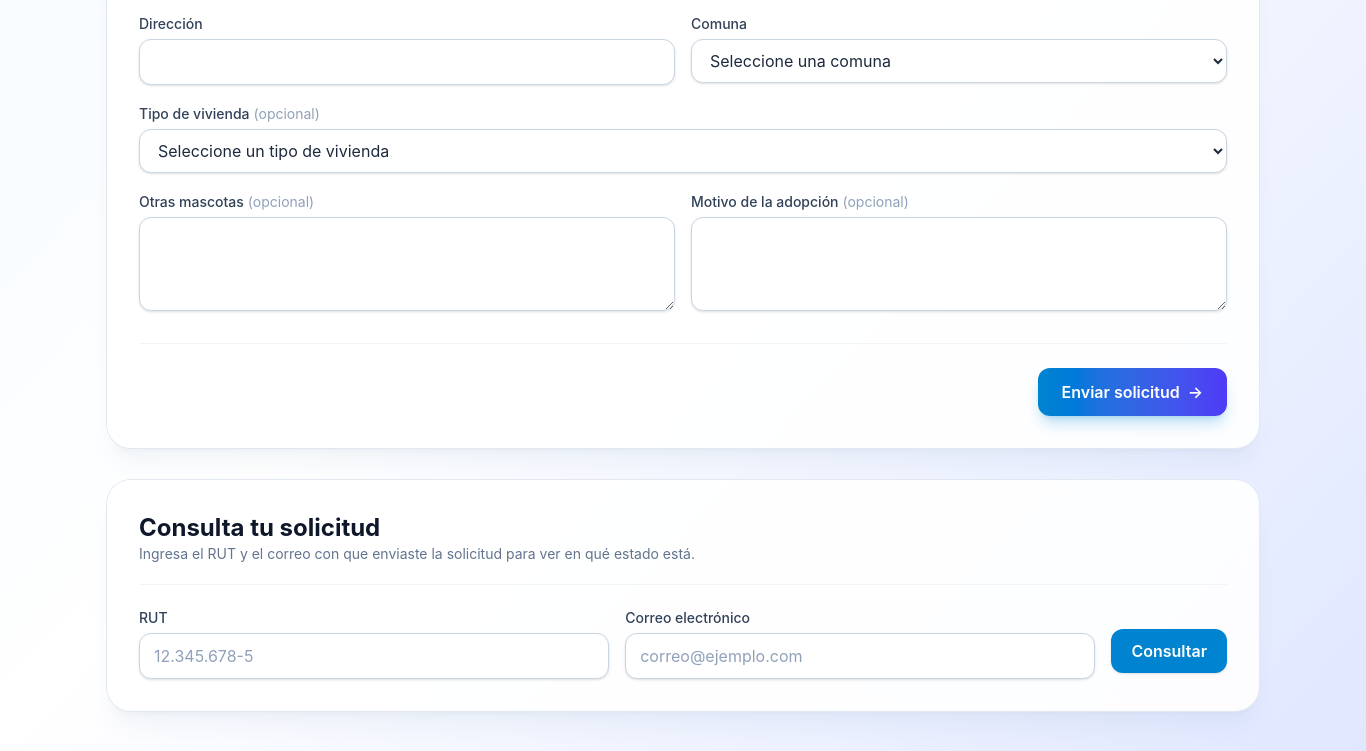
Test: Consulta del estado de la solicitud (vista del usuario) › avisa si no hay solicitudes con ese RUT y correo
The width and height of the screenshot is (1366, 751).
(page scrolled)
Type "123456785" into the field labelled "RUT" at (374, 656), box [139,633,609,679]
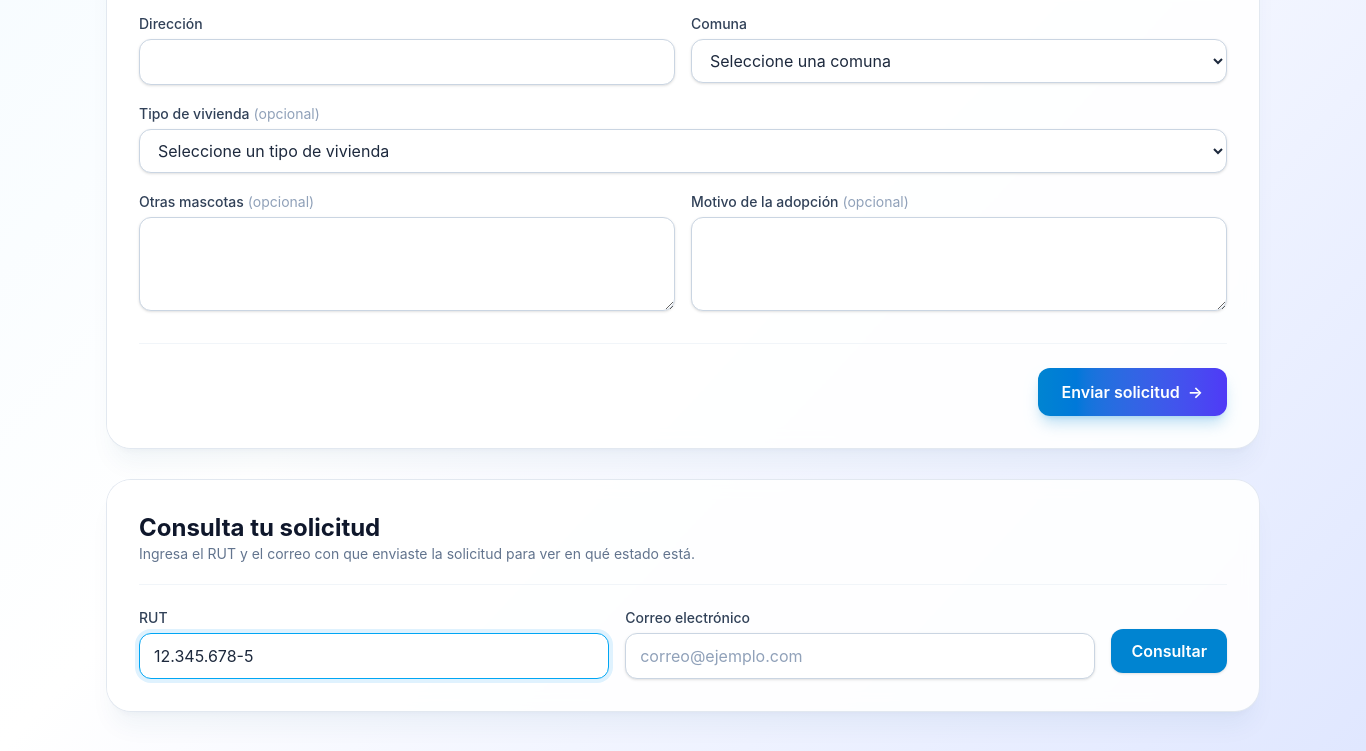
Type "ana@correo.cl" into the field labelled "Correo electrónico" at (860, 656), box [625,633,1095,679]
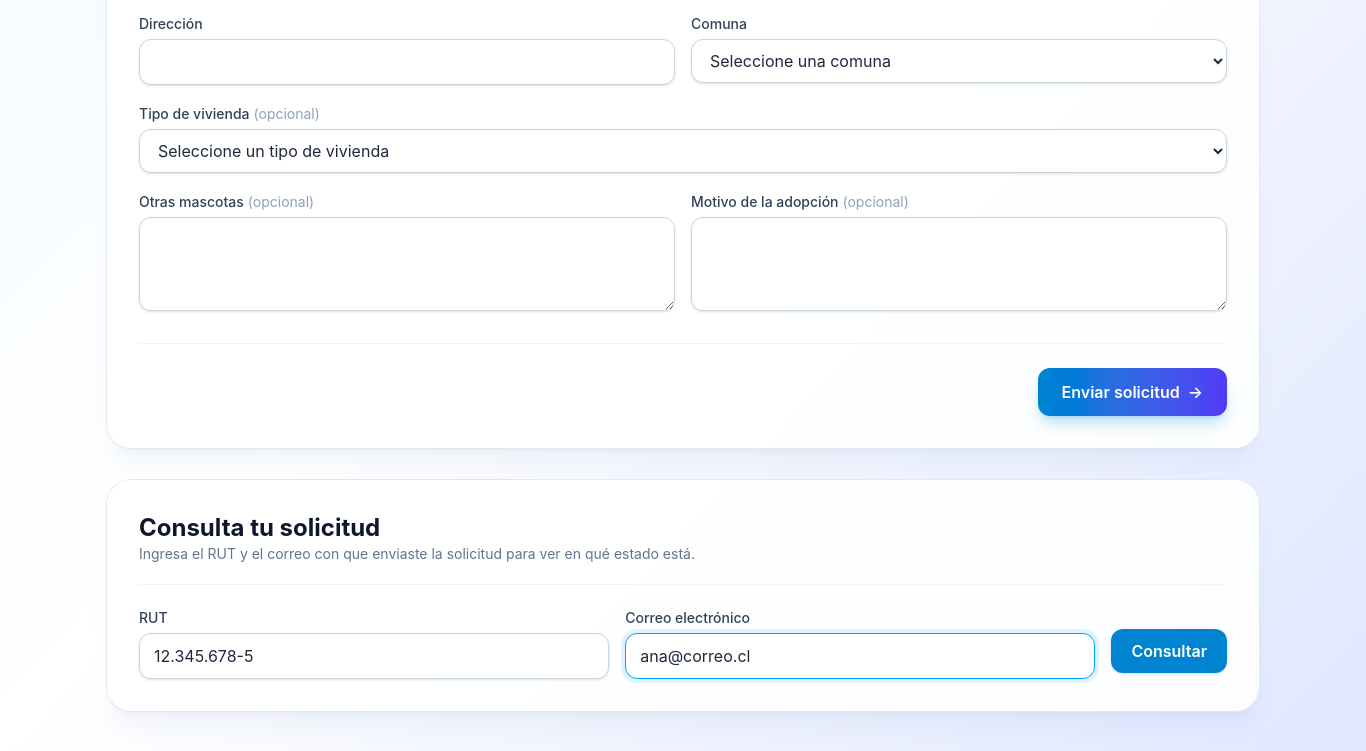
Click the button "Consultar" at (1169, 651), box [1111,629,1227,673]
(page scrolled)
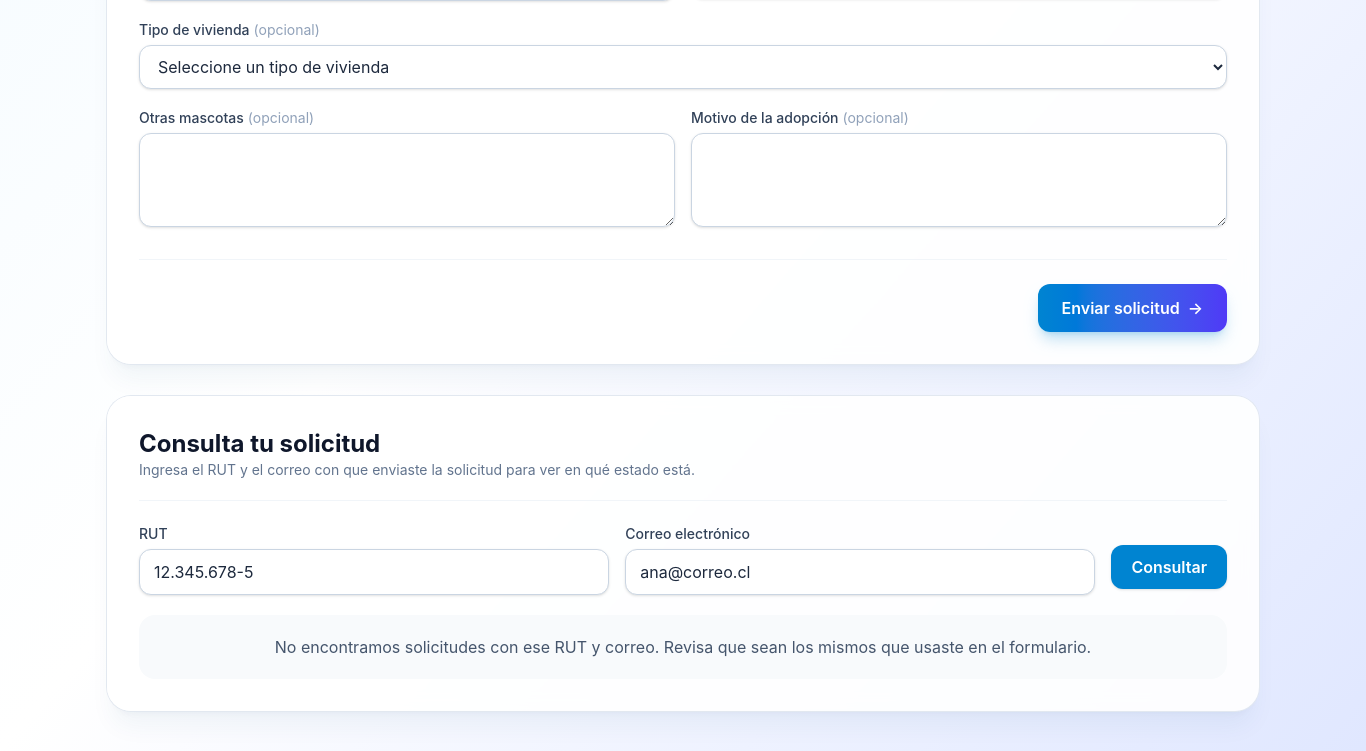
Check: the text "No encontramos solicitudes con ese RUT y correo" is shown, box [275,637,1091,657]
